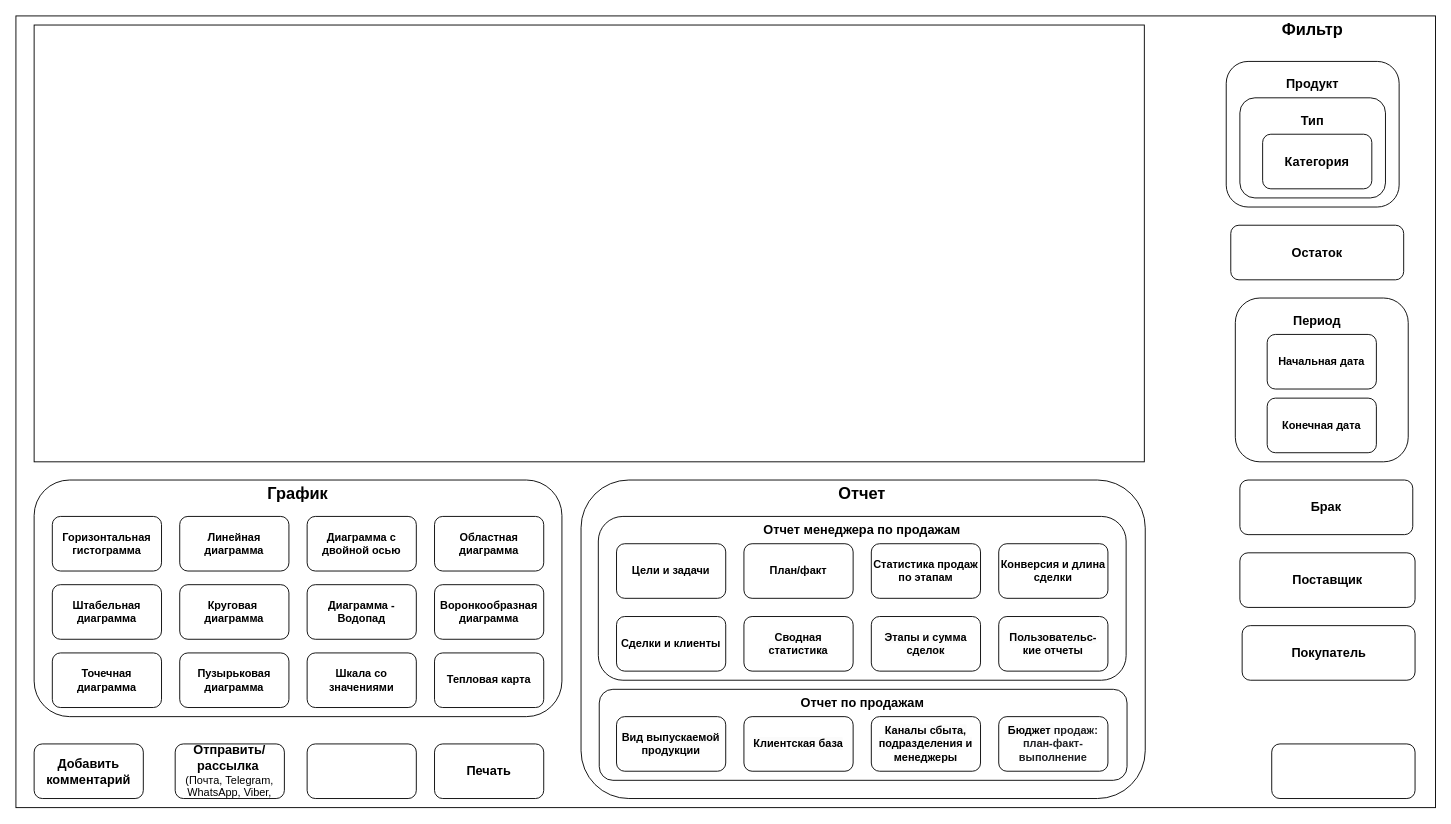
Some shapes in this 1451 by 824 pixel diagram are drawn without their labels. Each missing label, with the box of its shape:
Окно просмотра: (33, 24, 1144, 462)
Сохранить: (306, 743, 416, 799)
Сформировать: (1271, 743, 1415, 799)
